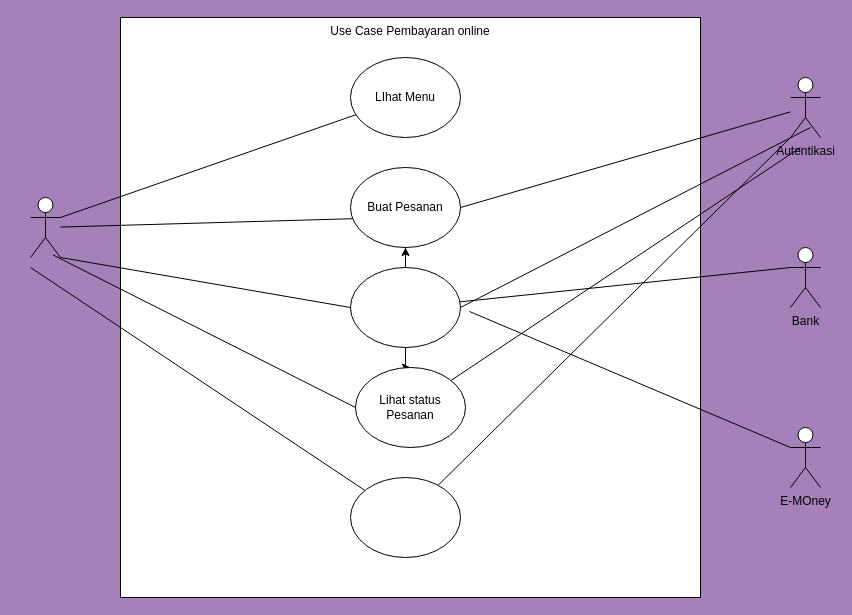
Image size: 852x615. Some labels were removed from this diagram. Here are the shapes that lost their labels. From the top down, the centre of each, then its label:
the point at 45,227: Pelanggan
the point at 405,307: Pembayaran
the point at 405,517: Log in APP/web
